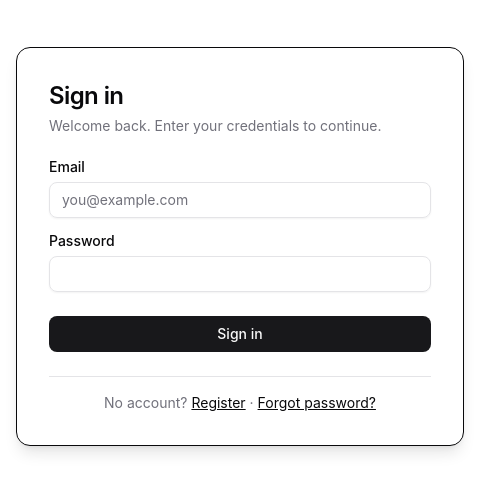
Test case: LoginPage › 429 surfaces retry-after countdown
The image size is (481, 503).
Type "alice@example.com" into the field labelled "Email" at (240, 200), box [49,182,431,218]
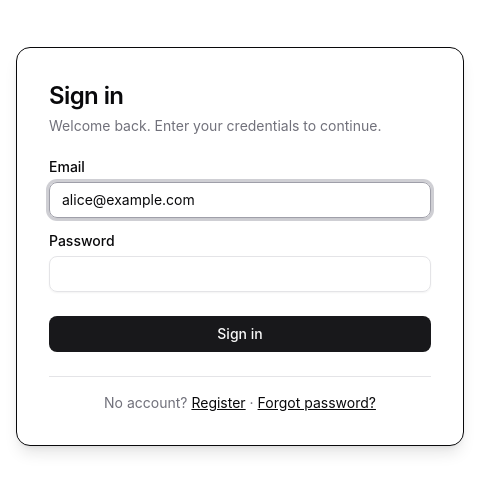
Type "password123" into the password field labelled "Password" at (240, 274), box [49,256,431,292]
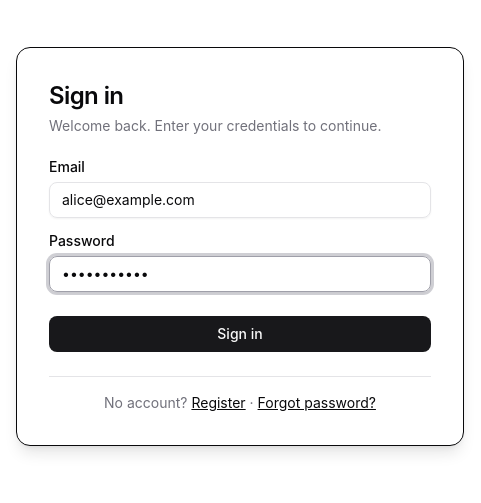
Click the button "Sign in" at (240, 334), box [49,316,431,352]
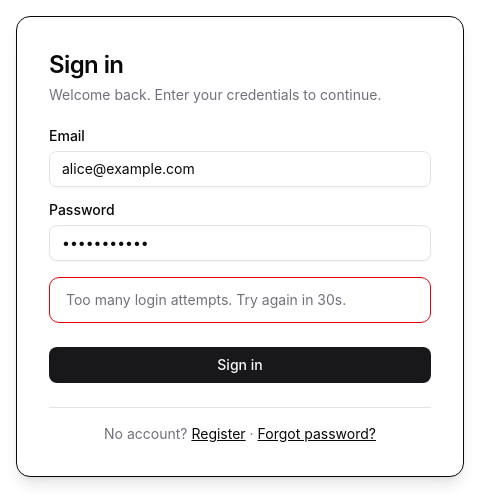
Now the text "Too many login attempts. Try again in 30s." is shown, box [66,290,346,308]
